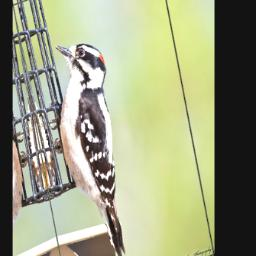Woodpecker: (36, 28, 143, 256)
